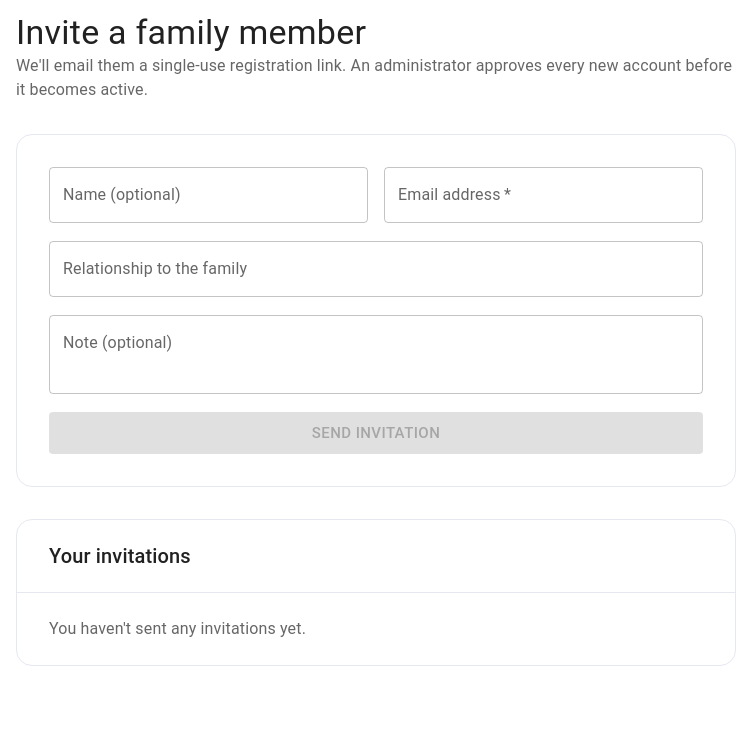
Test: InvitePage › creates an invitation and shows the copyable registration link
The width and height of the screenshot is (753, 732).
Expected: the text "You haven't sent any invitations yet." is shown, [49, 619, 306, 638]
In the field labelled "Email address": [544, 195] box [384, 167, 703, 223], type "new@example.com"
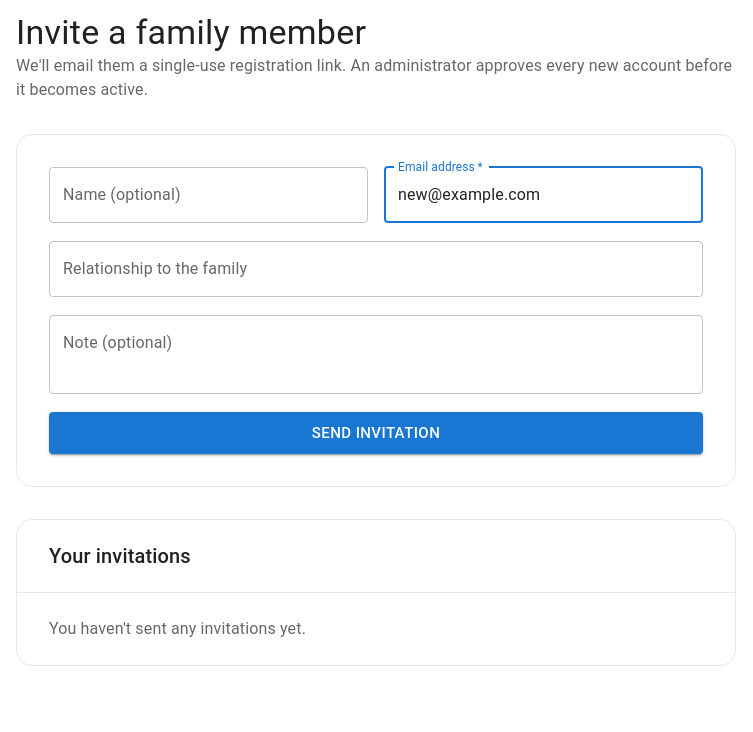
In the field labelled "Relationship to the family": [376, 269] box [49, 241, 703, 297], type "uncle"
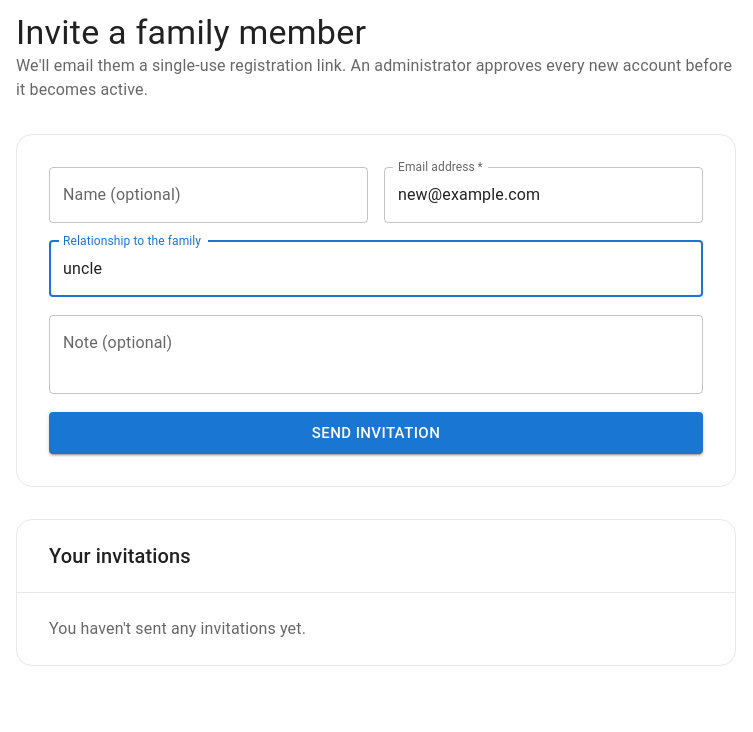
Click the button "Send invitation": [376, 433] box [49, 412, 703, 454]
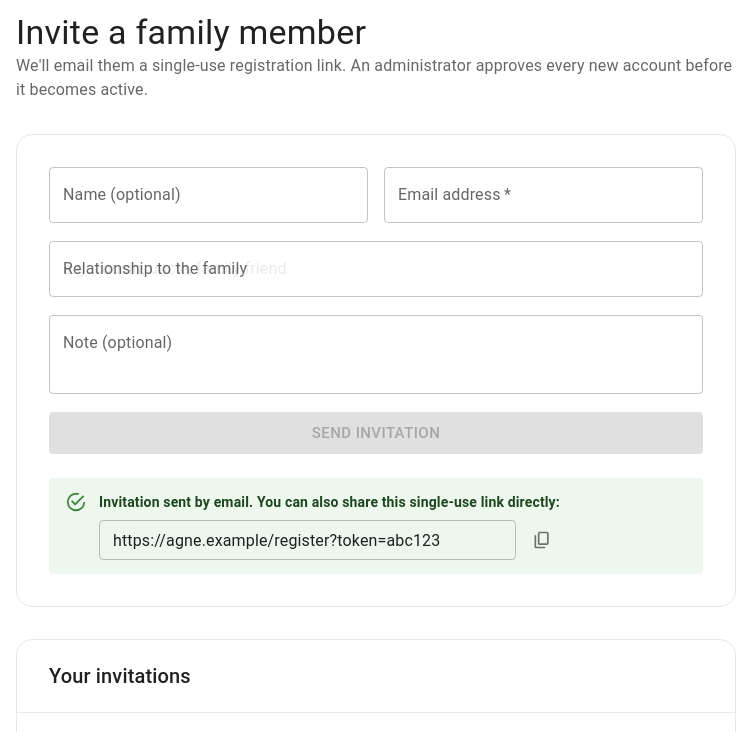
Result: the field showing "https://agne.example/register?token=abc123" is shown at [99, 520, 516, 560]
Result: the button named "Copy invitation link" is shown at [524, 522, 560, 558]
